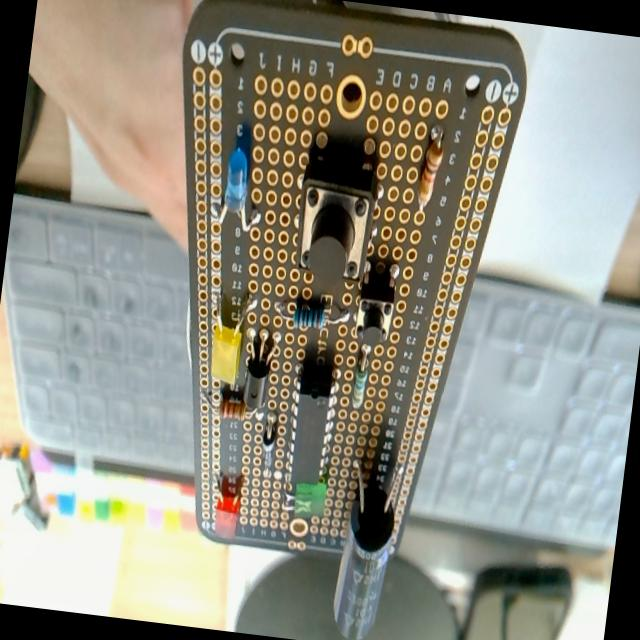Electrolytic capacitor: (327, 448, 408, 640)
IC: (282, 368, 338, 496)
diode: (258, 412, 278, 472)
led: (212, 148, 268, 236), (206, 321, 244, 388), (212, 476, 244, 540), (291, 477, 327, 520)
resistor: (415, 132, 445, 211), (350, 352, 370, 410), (292, 298, 326, 332), (218, 395, 246, 422)
switch: (290, 144, 382, 291), (354, 260, 399, 348)
transistor: (240, 330, 276, 414)
